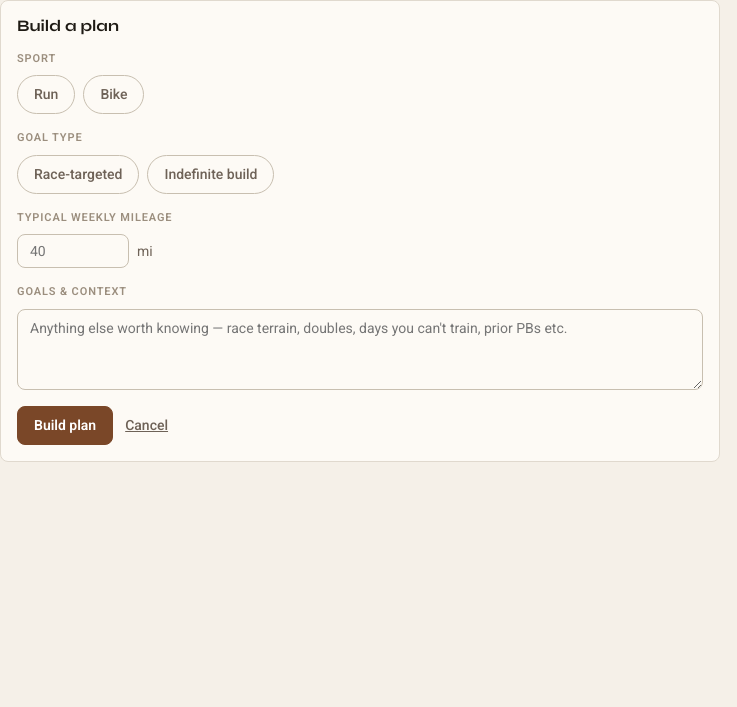
Test case: BuildFormCard › hides race fields until goal type is race-targeted
This screenshot has width=737, height=707.
Expected: the button "select a date" is not shown
Click the button "Race-targeted": [78, 174] box x1=17 y1=155 x2=139 y2=194
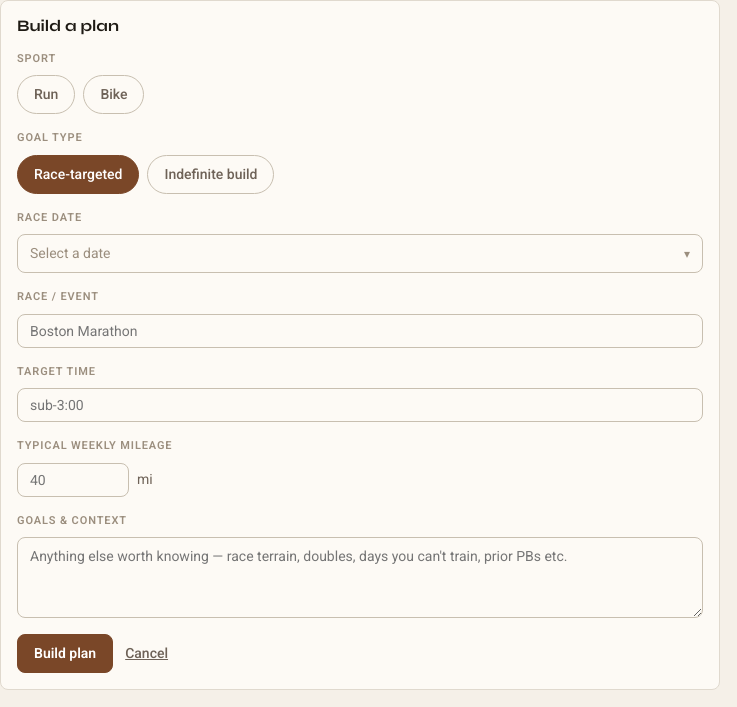
Result: the button "Select a date" is shown at x1=17 y1=234 x2=703 y2=273
Result: the field labelled "Race / event" is shown at x1=17 y1=314 x2=703 y2=348
